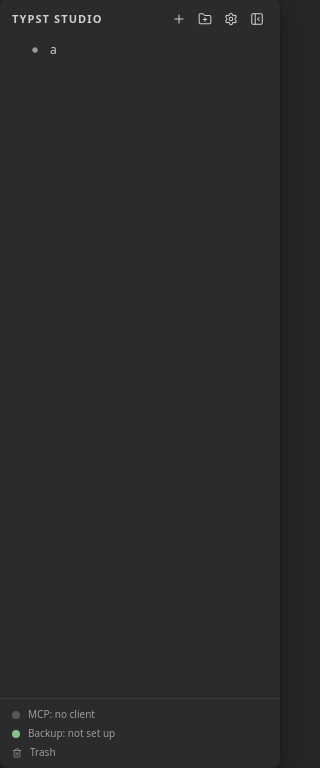
it: Sidebar collapse › collapses to a rail, hiding the workspace list but keeping a way back
The width and height of the screenshot is (320, 768).
Expected: the text "a" is shown, [50,41,57,58]
Click the button named "Collapse sidebar".
click(257, 19)  # box [246,8,268,30]
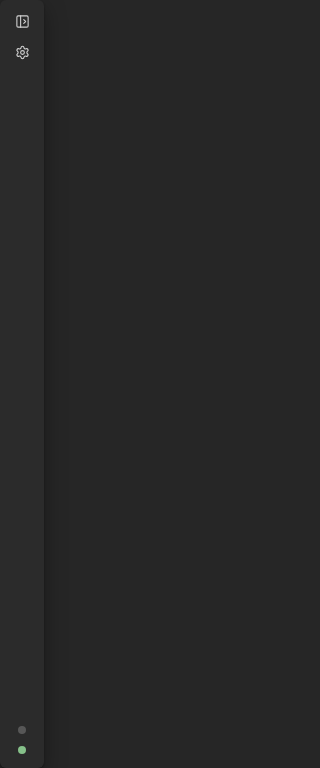
Now the button "a" is gone
Now the button named "Expand sidebar" is shown
Click the button named "Expand sidebar".
click(22, 22)  # box [8,8,36,35]
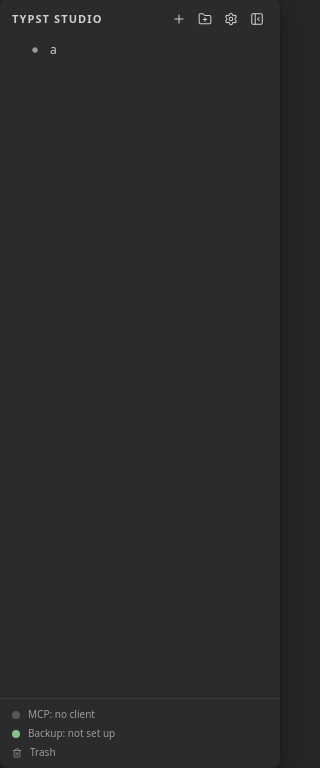
Now the text "a" is shown, box [50,41,57,58]
